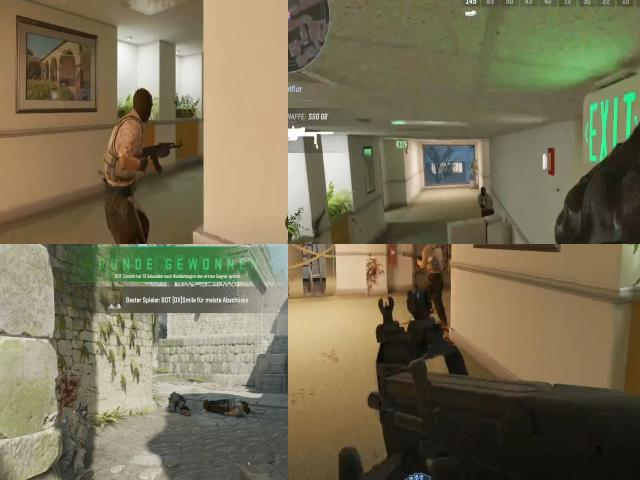Dead: (58, 399, 91, 480), (163, 382, 189, 414), (206, 402, 248, 421), (208, 392, 250, 406)
T: (413, 244, 449, 281), (478, 182, 496, 213)
T-Head: (124, 85, 159, 122), (418, 244, 442, 251), (480, 183, 489, 199)
